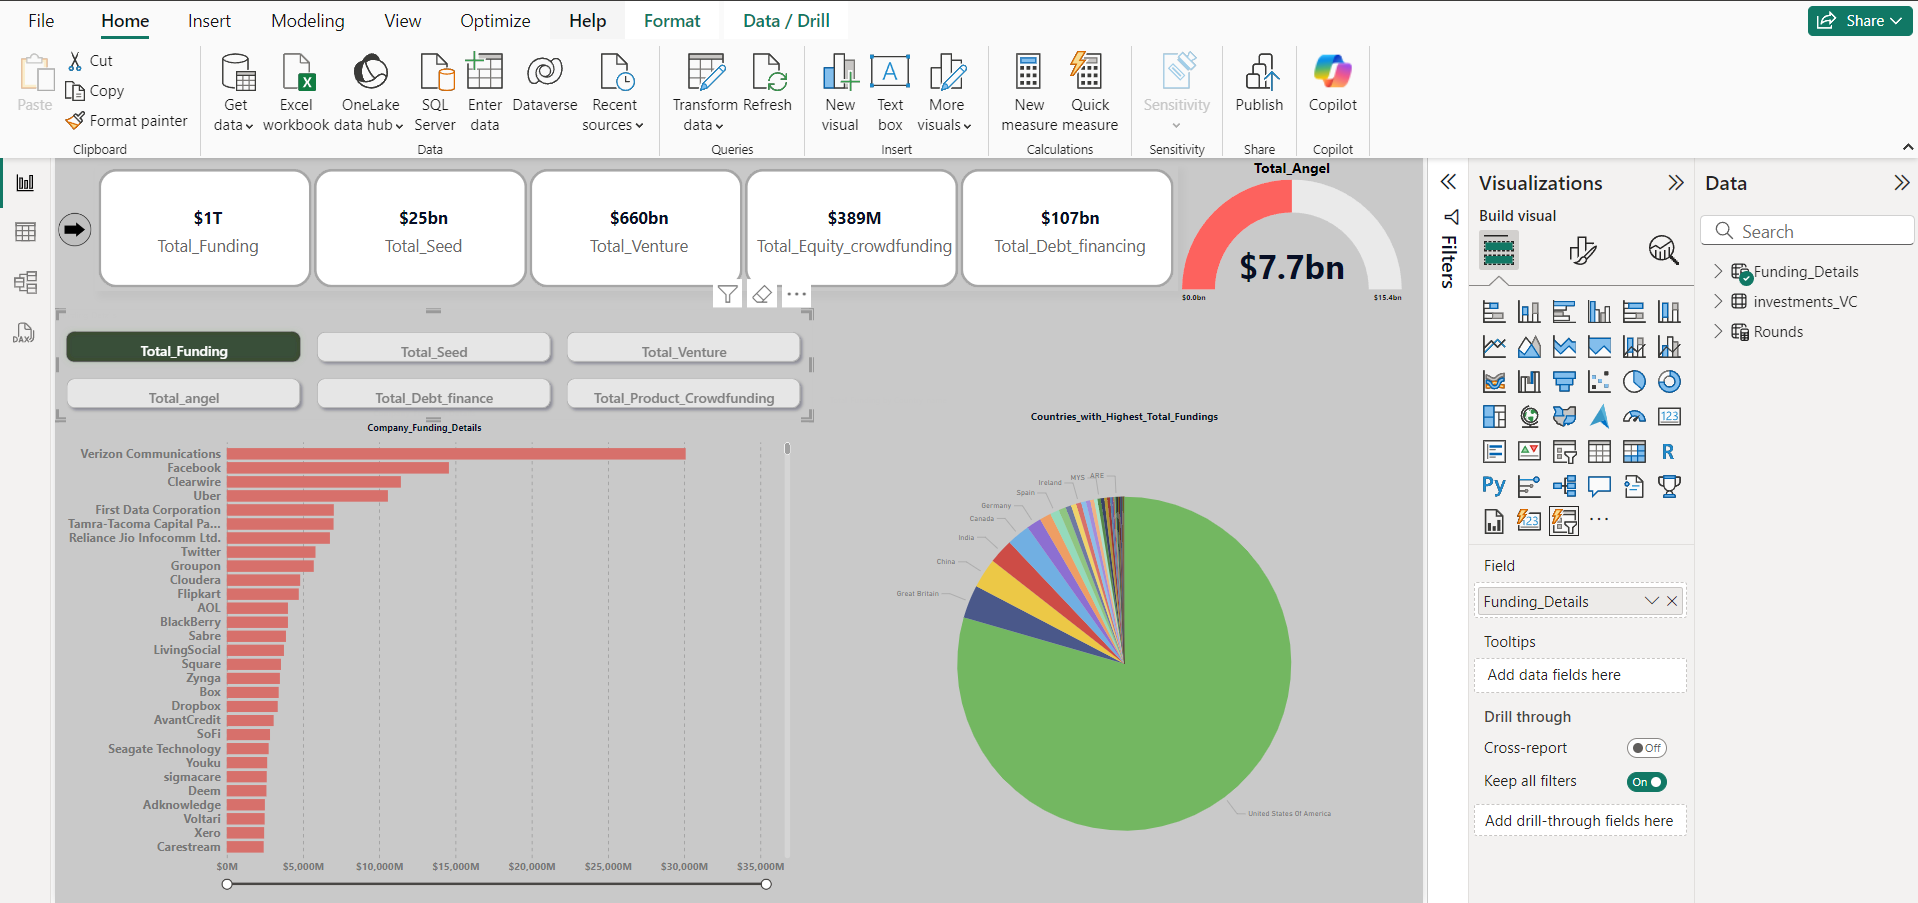

What the dashboard file says about the page in this screenshot:
{"tool":"powerbi","page":{"name":"Page 1","canvas":[1980,1080],"ordinal":0},"visuals":[{"type":"cardVisual","fields":{"Data":["investments_VC.Total_Funding","Sum(investments_VC.Seed)","Sum(investments_VC.Venture)","Sum(investments_VC.Equity_crowdfunding)","Sum(investments_VC.Debt_financing)"]},"box":[57.5,10,1567.5,182.5],"z":0},{"type":"gauge","title":"Total_Angel","fields":{"Y":["Sum(investments_VC.angel)"]},"box":[1602.4,0,378.6,219],"z":1000},{"type":"barChart","title":"Company_Funding_Details","fields":{"Y":["investments_VC.Total_Funding"],"Category":["investments_VC.Company_name"]},"box":[0,360.1,1069.5,702.1],"z":2000},{"type":"advancedSlicerVisual","fields":{"Values":["Funding_Details.Funding_Details"]},"box":[0,218.6,1097.4,161.3],"z":3000},{"type":"pieChart","fields":{"Category":["investments_VC.Country_name"],"Y":["investments_VC.Total_Funding"]},"box":[1116.6,342,863.2,738.3],"z":4000},{"type":"image","box":[0,62.5,57.5,80],"z":5000}]}

Visuals, with their boxes on the page's 1980x1080 design canvas (x1, y1, x2, y2). These are canvas units, not pixel positions in the 1918x903 screenshot, which may show the page scaled, cropped or inside an application window:
cardVisual - investments_VC.Total_Funding x Sum(investments_VC.Seed): x1=58, y1=10, x2=1625, y2=192
"Total_Angel" gauge: x1=1602, y1=0, x2=1981, y2=219
"Company_Funding_Details" barChart: x1=0, y1=360, x2=1070, y2=1062
advancedSlicerVisual - Funding_Details.Funding_Details: x1=0, y1=219, x2=1097, y2=380
pieChart - investments_VC.Country_name x investments_VC.Total_Funding: x1=1117, y1=342, x2=1980, y2=1080
image: x1=0, y1=62, x2=58, y2=142
